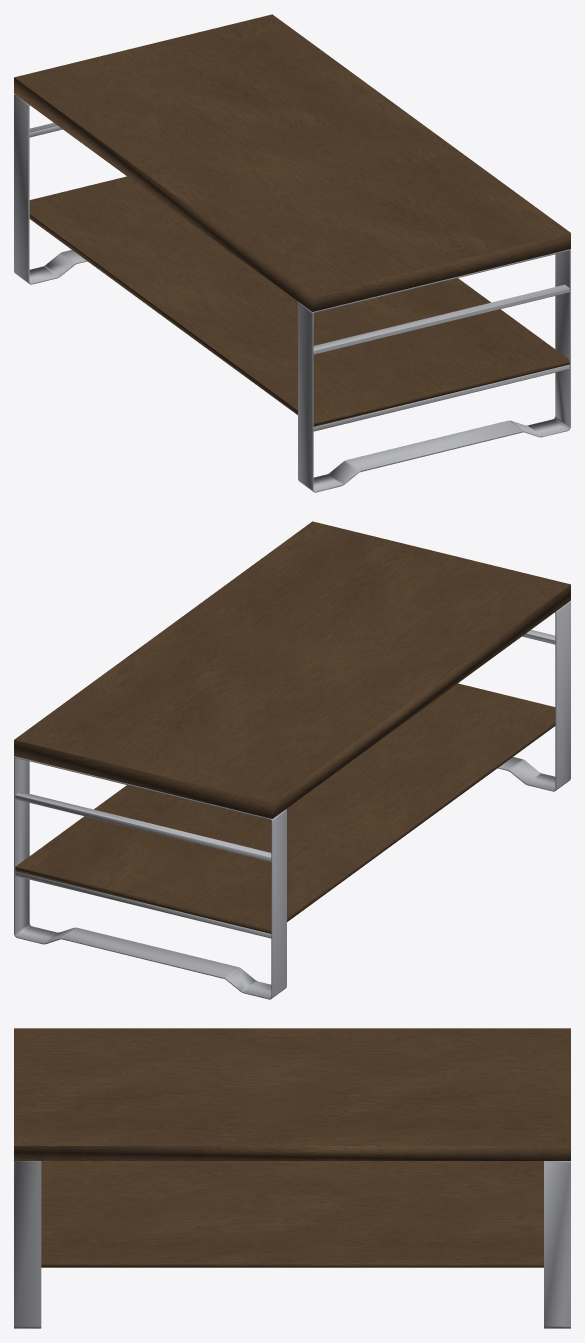
File: furniture_table_coffee_low_a01.glb
3 views of the same model, one above another, from view 1: azimuth 30°, elevation 25°; view 2: azimuth 150°, elevation 25°; view 3: azimuth 270°, elevation 25° (orthographic). The views are drawn at different scales.
Visible parts, largest first — view 1: furniture_table_coffee_low_a01; view 2: furniture_table_coffee_low_a01; view 3: furniture_table_coffee_low_a01.
Part boxes in pixels (box(x1,y1,x2,y2)): furniture_table_coffee_low_a01: box(14, 14, 570, 492); furniture_table_coffee_low_a01: box(14, 521, 570, 999); furniture_table_coffee_low_a01: box(14, 1028, 570, 1328).
Bounding box in the file's own units: 0.5999 × 0.4427 × 1.2.
3 materials, 2 textured.
